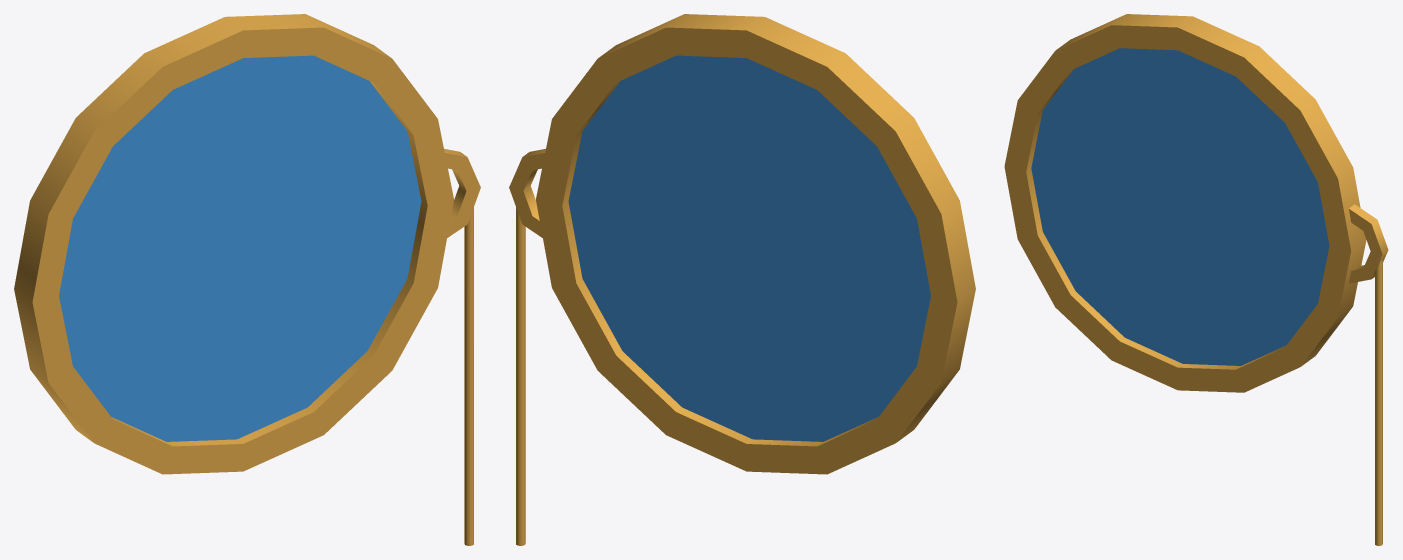
The model's file is monocle.fbx.
The picture shows the model from 3 angles, left to right: view 1: azimuth 30°, elevation 25°; view 2: azimuth 150°, elevation 25°; view 3: azimuth 330°, elevation 25°; orthographic projection. The views are drawn at different scales.
Visible parts, largest first — view 1: monocle; view 2: monocle; view 3: monocle.
Part boxes in pixels (x1,y1,x2,y2): monocle: [14, 14, 480, 545]; monocle: [509, 14, 975, 545]; monocle: [1004, 14, 1388, 545].
Bounding box in the file's own units: 70.96 × 86.27 × 5.01.
